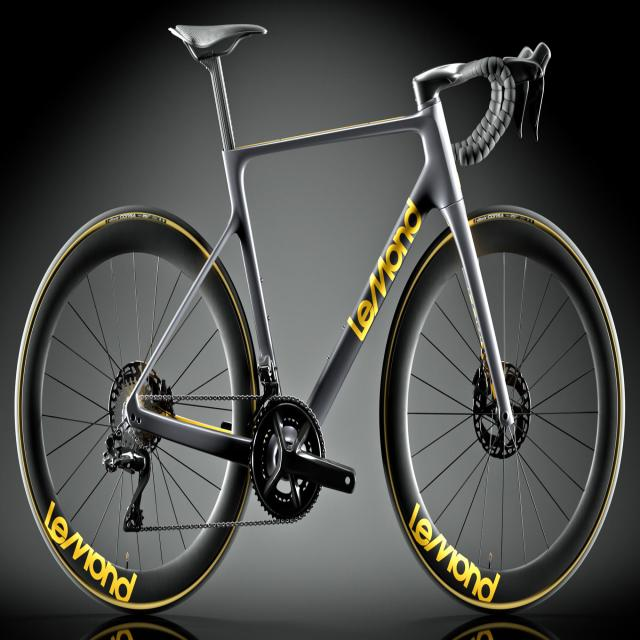road-bike: (13, 21, 628, 610)
